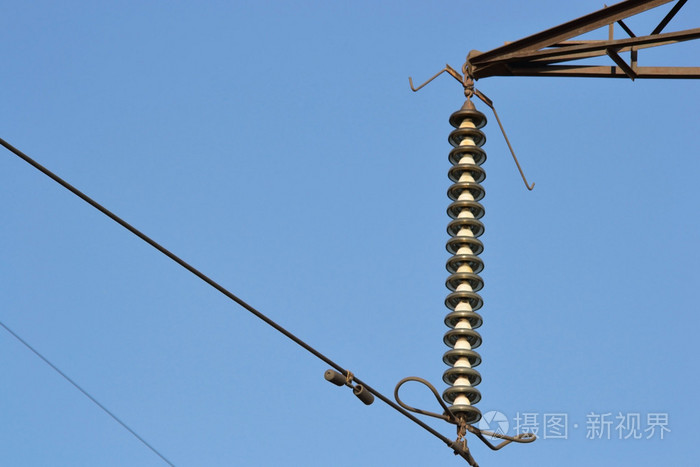insulator: (446, 107, 490, 422)
